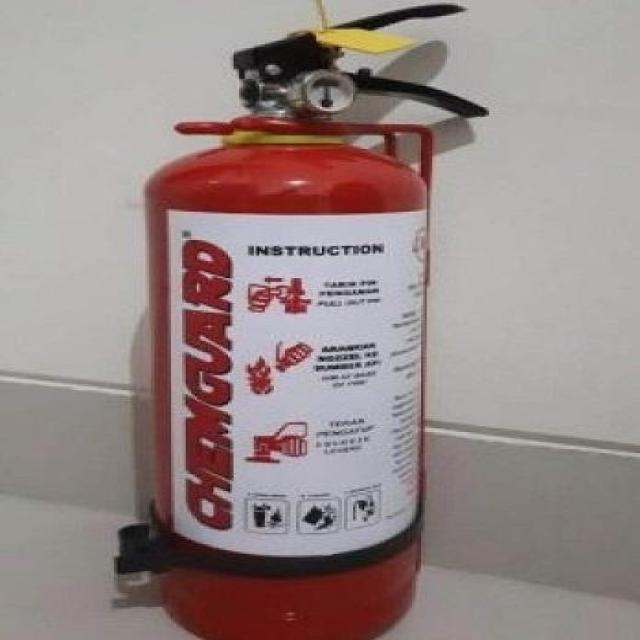fire_extinguisher: (133, 0, 492, 639)
